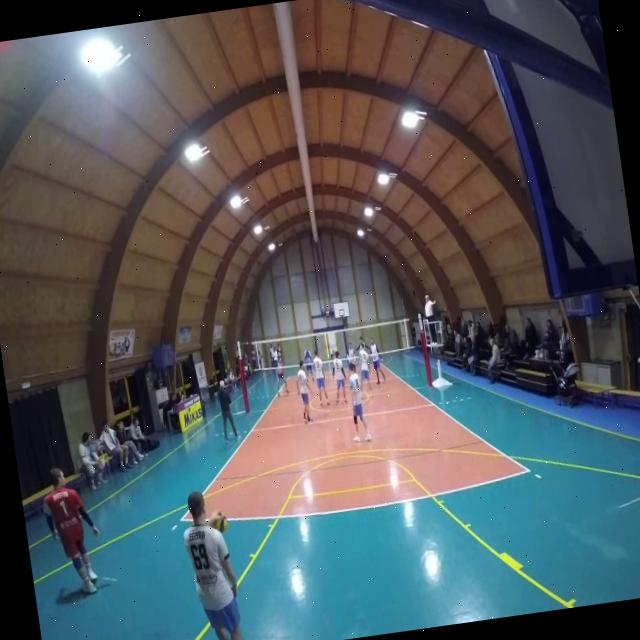Volleyball: (210, 510, 230, 534)
